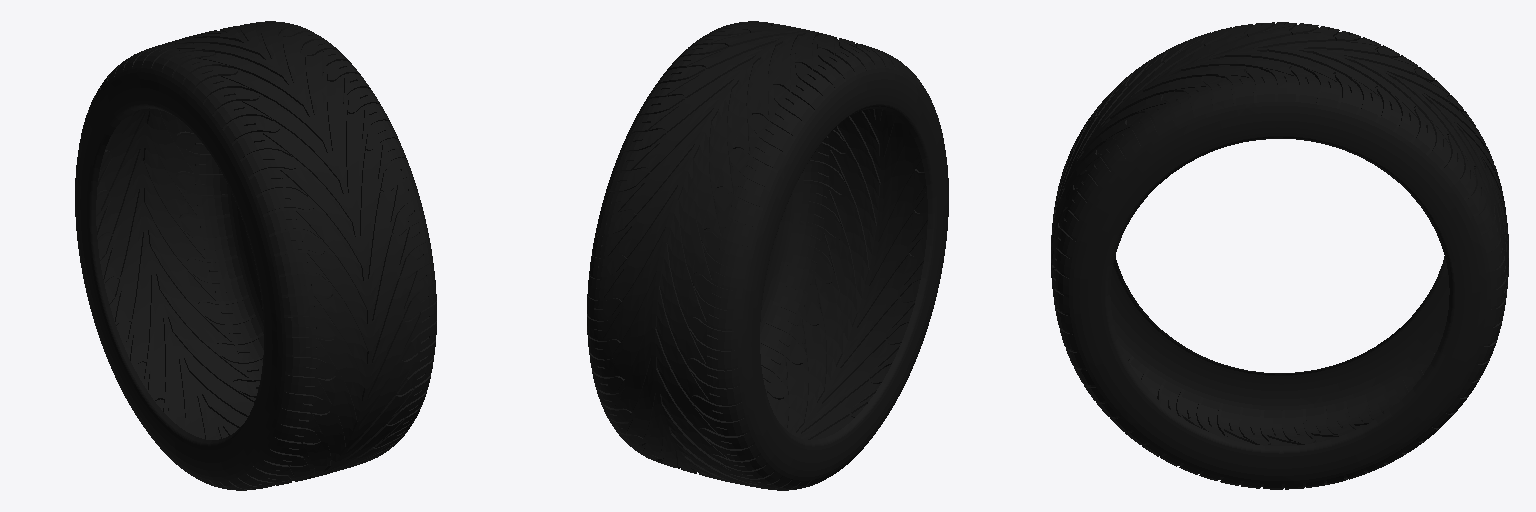
The model's file is llantaDD.obj.
3 views of the same model, side by side, from view 1: azimuth 30°, elevation 25°; view 2: azimuth 150°, elevation 25°; view 3: azimuth 270°, elevation 25° (orthographic).
Parts seen in each view (by area): view 1: pasted__HDM_01_03_tire_04; view 2: pasted__HDM_01_03_tire_04; view 3: pasted__HDM_01_03_tire_04.
Boxes of the visible parts, x1=… form: pasted__HDM_01_03_tire_04: x1=75, y1=21, x2=436, y2=490; pasted__HDM_01_03_tire_04: x1=587, y1=21, x2=948, y2=490; pasted__HDM_01_03_tire_04: x1=1051, y1=22, x2=1508, y2=489.
Size of the model in its own units: 0.4401 by 1.1 by 1.1.